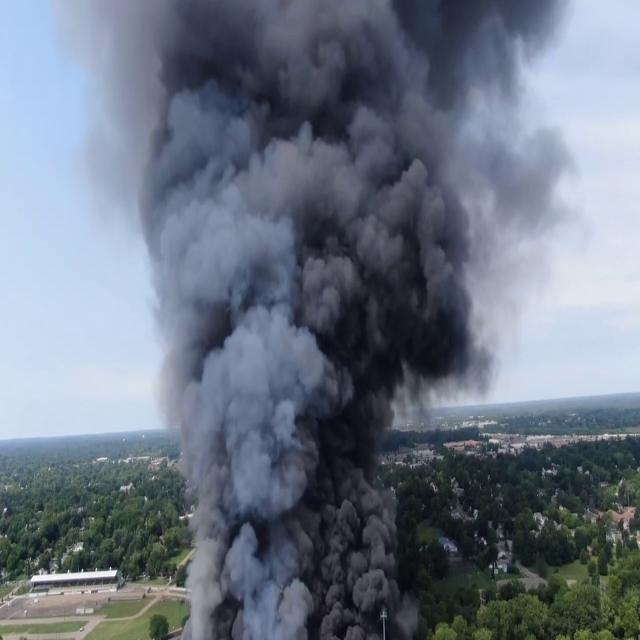Smoke: (88, 0, 548, 638)
